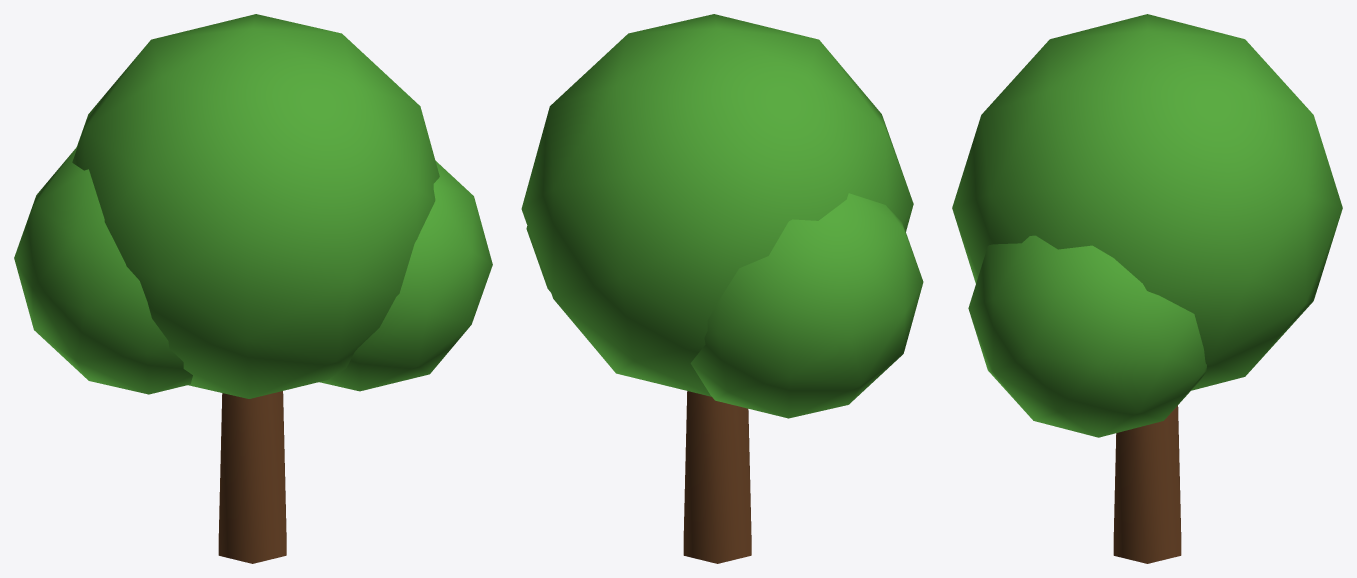
The model's file is arbol_redondo.obj.
The picture shows the model from 3 angles, left to right: view 1: azimuth 30°, elevation 25°; view 2: azimuth 150°, elevation 25°; view 3: azimuth 270°, elevation 25°; orthographic projection.
Parts seen in each view (by area): view 1: Arbol_Redondo; view 2: Arbol_Redondo; view 3: Arbol_Redondo.
Boxes of the visible parts, x1,y1,x2,y2 form: Arbol_Redondo: (14,14,492,563); Arbol_Redondo: (521,14,923,563); Arbol_Redondo: (952,14,1342,563).
Size of the model in its own units: 1.42 by 1.75 by 1.2.
